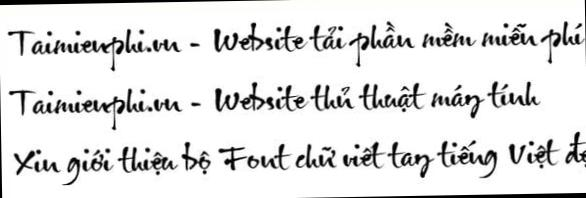text: (10, 129, 586, 193), (5, 15, 586, 75), (6, 76, 543, 132)
